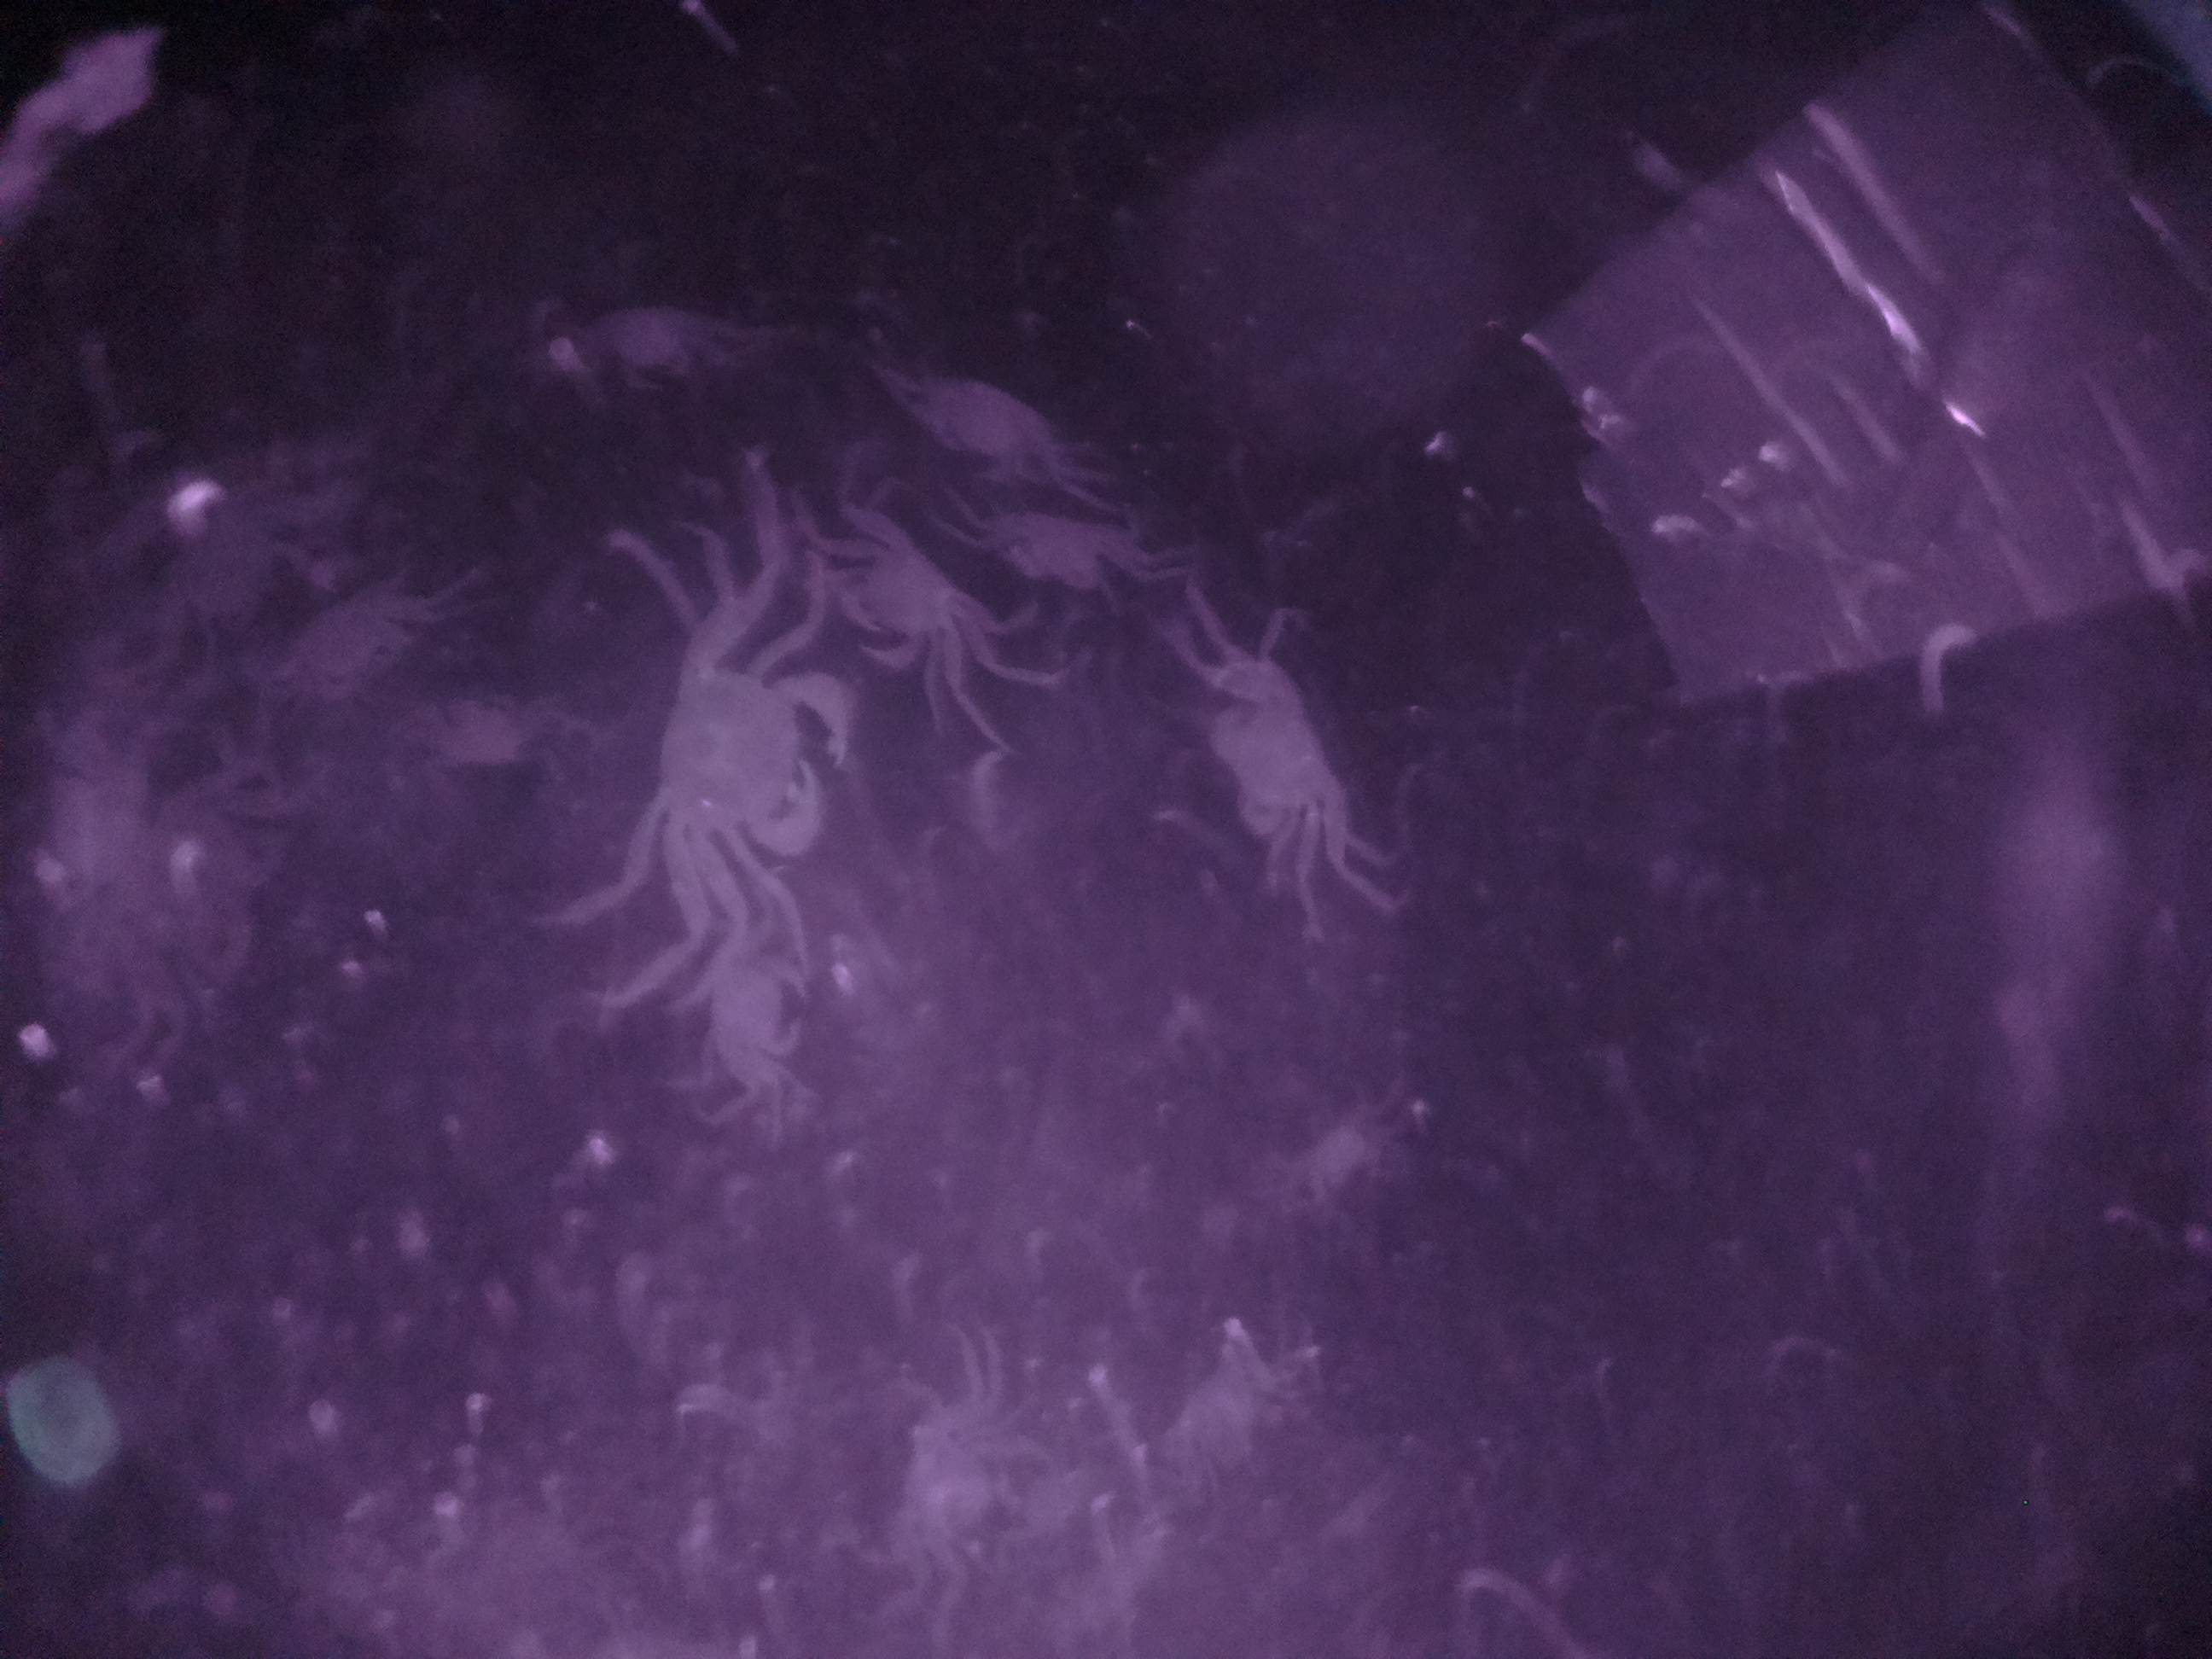Crab: (604, 599, 867, 904), (1197, 643, 1366, 873), (688, 917, 841, 1121), (968, 484, 1148, 615)
